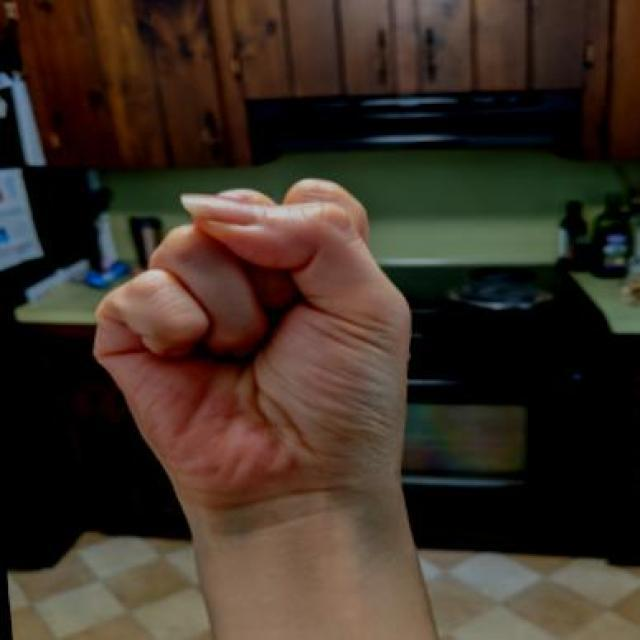S: (79, 161, 426, 640)
